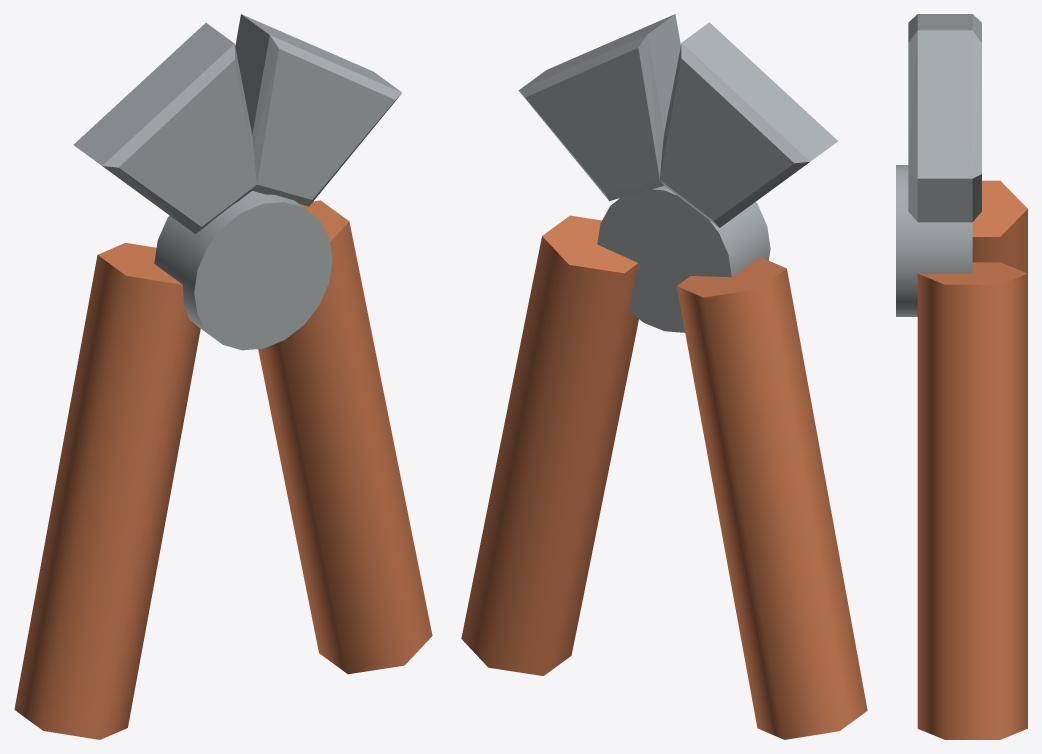
Rendered from salvage-and-repair-workshop-diagonal-cutters-83adbef9__25462.glb.
The picture shows the model from 3 angles, left to right: view 1: azimuth 30°, elevation 25°; view 2: azimuth 150°, elevation 25°; view 3: azimuth 270°, elevation 25°; orthographic projection. The views are drawn at different scales.
Parts seen in each view (by area): view 1: diagonal-cutters; view 2: diagonal-cutters; view 3: diagonal-cutters.
Part boxes in pixels (<box>): diagonal-cutters: <box>14,14,432,739</box>; diagonal-cutters: <box>461,14,867,739</box>; diagonal-cutters: <box>896,14,1027,739</box>.
Bounding box in the file's own units: 0.1406 × 0.2319 × 0.043.
